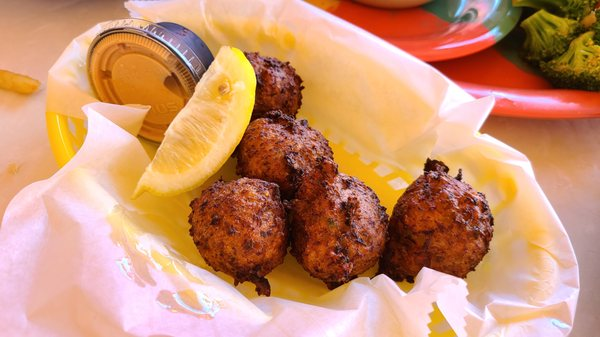curry: (519, 2, 600, 92)
taco: (131, 44, 258, 199)
